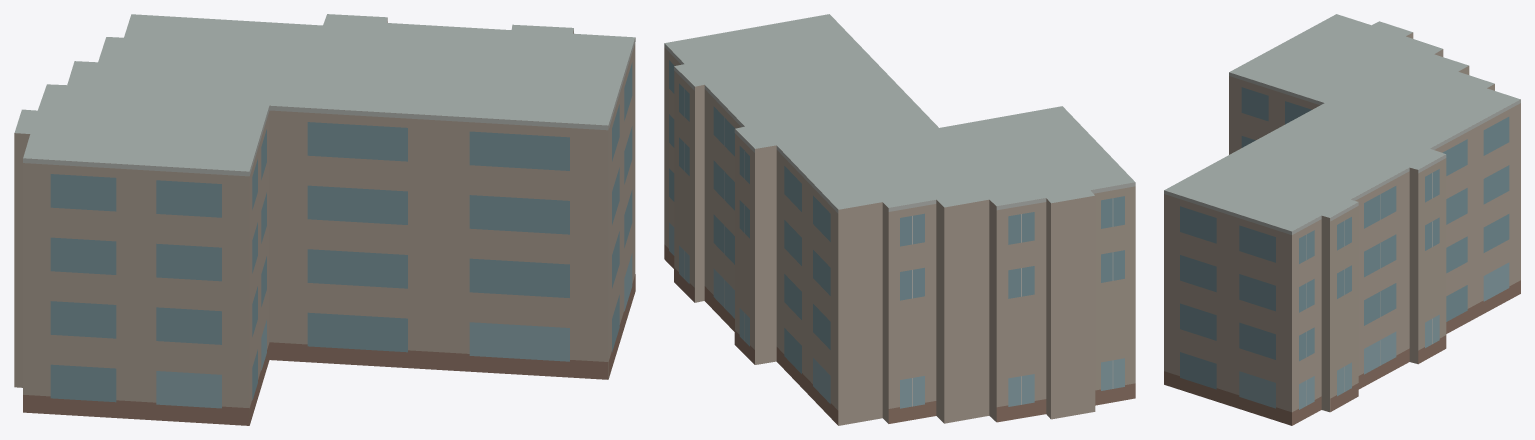
The model's file is survey-upis-32610122.glb.
3 renders of one model, left to right at view 1: azimuth 30°, elevation 25°; view 2: azimuth 150°, elevation 25°; view 3: azimuth 270°, elevation 25°, orthographic. The views are drawn at different scales.
Parts seen in each view (by area): view 1: survey-upis-32610122.tmp; view 2: survey-upis-32610122.tmp; view 3: survey-upis-32610122.tmp.
Boxes of the visible parts, <box> form: survey-upis-32610122.tmp: <box>14,14,635,425</box>; survey-upis-32610122.tmp: <box>664,14,1135,425</box>; survey-upis-32610122.tmp: <box>1164,14,1520,425</box>.
Bounding box in the file's own units: 31.21 × 13 × 21.64.
